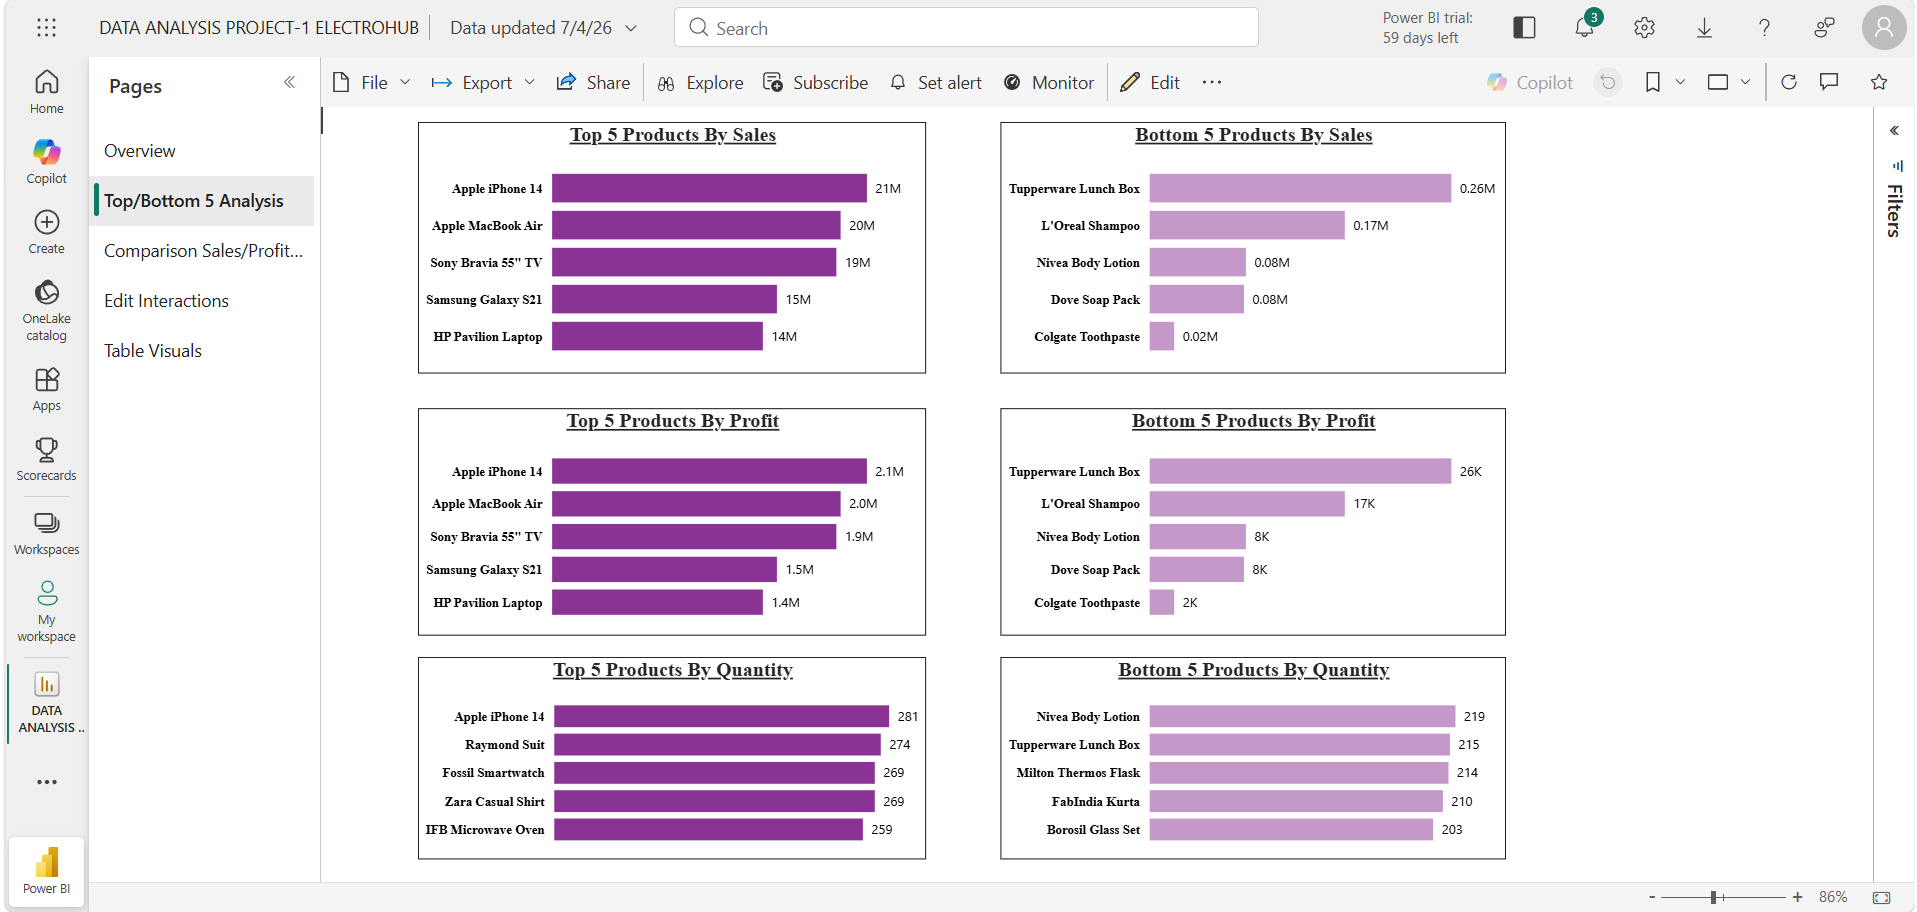

This screenshot's page, from the dashboard's own definition file:
{"tool":"powerbi","page":{"name":"Top/Bottom 5 Analysis","canvas":[1280,720],"ordinal":1},"visuals":[{"type":"barChart","title":"Top 5 Products By Sales","fields":{"Category":["Dim Product.Product Name"],"Y":["Sum(Fact Table.Net Sales)"]},"box":[9.6,13.7,472,233.3],"z":0},{"type":"barChart","title":"Bottom 5 Products By Sales","fields":{"Category":["Dim Product.Product Name"],"Y":["Sum(Fact Table.Net Sales)"]},"box":[550.3,13.7,469.3,233.3],"z":1000},{"type":"barChart","title":"Top 5 Products By Profit","fields":{"Category":["Dim Product.Product Name"],"Y":["Sum(Fact Table.Profit)"]},"box":[9.6,279.9,472,211.3],"z":2000},{"type":"barChart","title":"Bottom 5 Products By Profit","fields":{"Category":["Dim Product.Product Name"],"Y":["Sum(Fact Table.Profit)"]},"box":[550.3,279.9,469.3,211.3],"z":3000},{"type":"barChart","title":"Top 5 Products By Quantity","fields":{"Category":["Dim Product.Product Name"],"Y":["Sum(Fact Table.Units Sold)"]},"box":[9.6,510.5,472,188],"z":4000},{"type":"barChart","title":"Bottom 5 Products By Quantity","fields":{"Category":["Dim Product.Product Name"],"Y":["Sum(Fact Table.Units Sold)"]},"box":[550.3,510.5,469.3,188],"z":5000}]}

Visuals, with their boxes on the page's 1280x720 design canvas (x1, y1, x2, y2). These are canvas units, not pixel positions in the 1917x912 screenshot, which may show the page scaled, cropped or inside an application window:
"Top 5 Products By Sales" barChart: {"left": 10, "top": 14, "right": 482, "bottom": 247}
"Bottom 5 Products By Sales" barChart: {"left": 550, "top": 14, "right": 1020, "bottom": 247}
"Top 5 Products By Profit" barChart: {"left": 10, "top": 280, "right": 482, "bottom": 491}
"Bottom 5 Products By Profit" barChart: {"left": 550, "top": 280, "right": 1020, "bottom": 491}
"Top 5 Products By Quantity" barChart: {"left": 10, "top": 510, "right": 482, "bottom": 698}
"Bottom 5 Products By Quantity" barChart: {"left": 550, "top": 510, "right": 1020, "bottom": 698}
